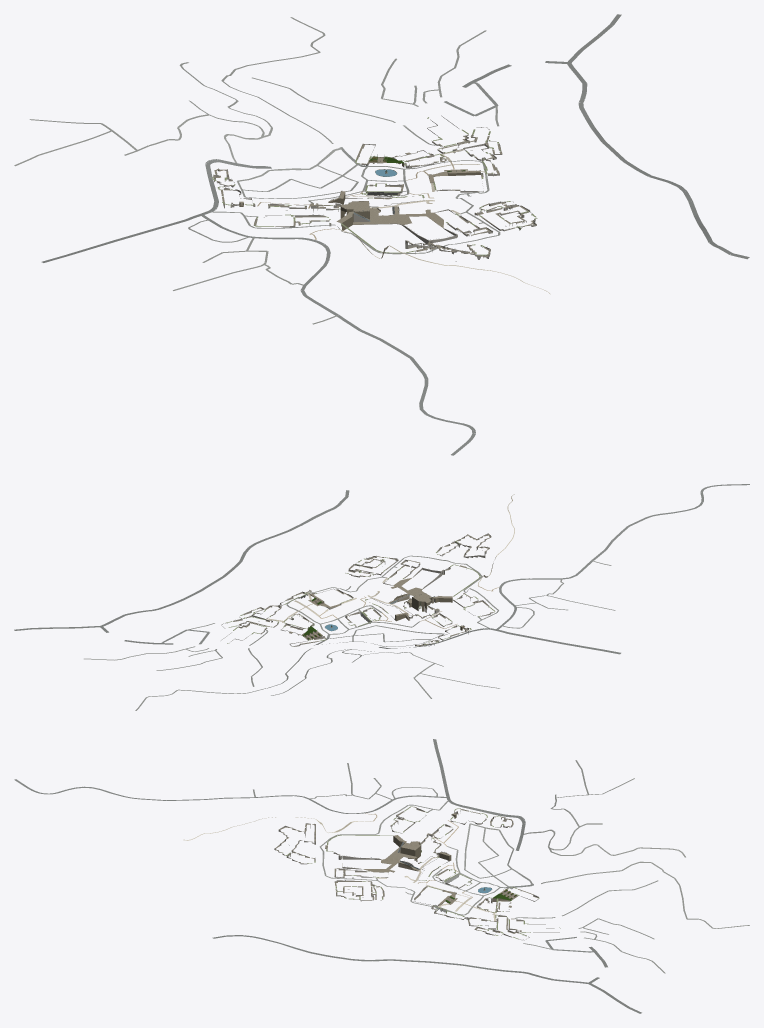
3 views of the same model, one above another, from view 1: azimuth 30°, elevation 25°; view 2: azimuth 150°, elevation 25°; view 3: azimuth 270°, elevation 25° (orthographic). The views are drawn at different scales.
Visible parts, largest first — view 1: osm-path-ribbons, apron-wall, apron-slab, granite, site-berm, site-concrete; view 2: osm-path-ribbons, apron-wall, apron-slab, granite, site-berm, site-concrete, wallGranite; view 3: osm-path-ribbons, apron-wall, apron-slab, granite, site-berm.
Boxes of the visible parts, <box> form: osm-path-ribbons: <box>14,14,749,455</box>; apron-wall: <box>213,134,536,258</box>; apron-slab: <box>213,135,534,256</box>; granite: <box>239,152,480,228</box>; site-berm: <box>212,117,537,255</box>; site-concrete: <box>220,115,532,261</box>; osm-path-ribbons: <box>14,484,749,710</box>; apron-wall: <box>233,533,493,646</box>; apron-slab: <box>233,534,493,646</box>; granite: <box>290,577,463,639</box>; site-berm: <box>226,539,495,646</box>; site-concrete: <box>221,542,476,646</box>; wallGranite: <box>292,588,464,638</box>; osm-path-ribbons: <box>14,739,749,1013</box>; apron-wall: <box>274,807,538,937</box>; apron-slab: <box>275,806,538,936</box>; granite: <box>364,813,516,906</box>; site-berm: <box>282,806,560,939</box>.
Size of the model in its own units: 1125 by 91.24 by 1403.
Materials: 23 (7 with a texture image).
